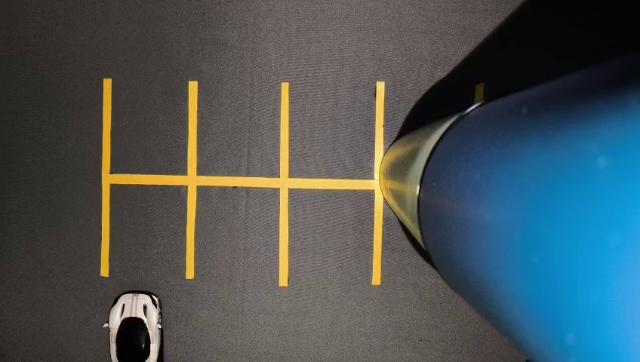toy_car: (86, 258, 203, 362)
